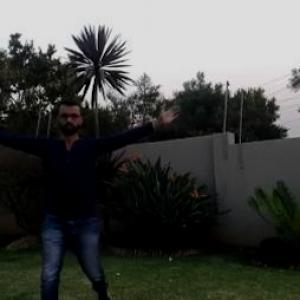takeoff: (1, 106, 181, 299)
